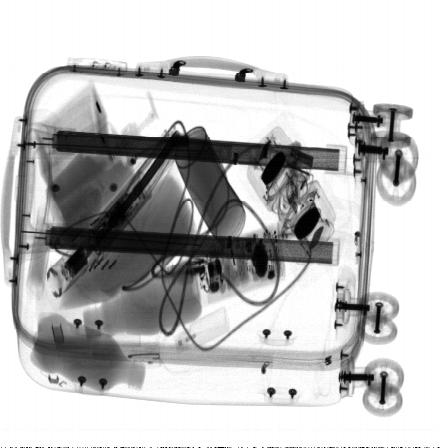Baton: (47, 126, 185, 298)
